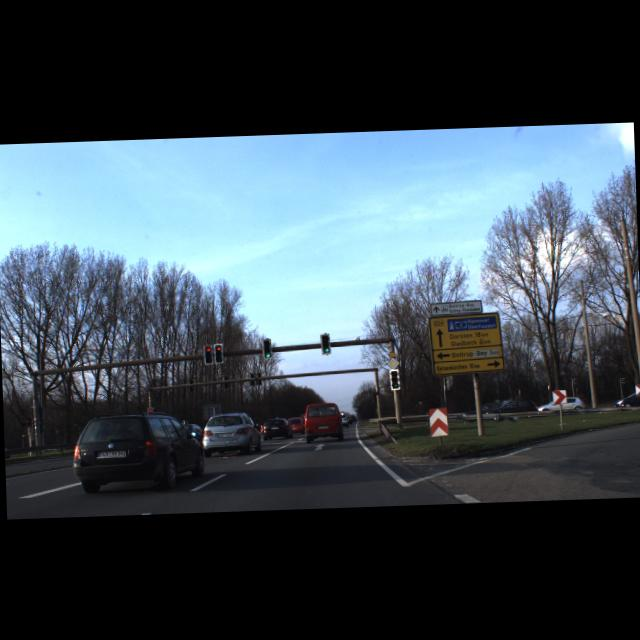other: (386, 356, 399, 369)
